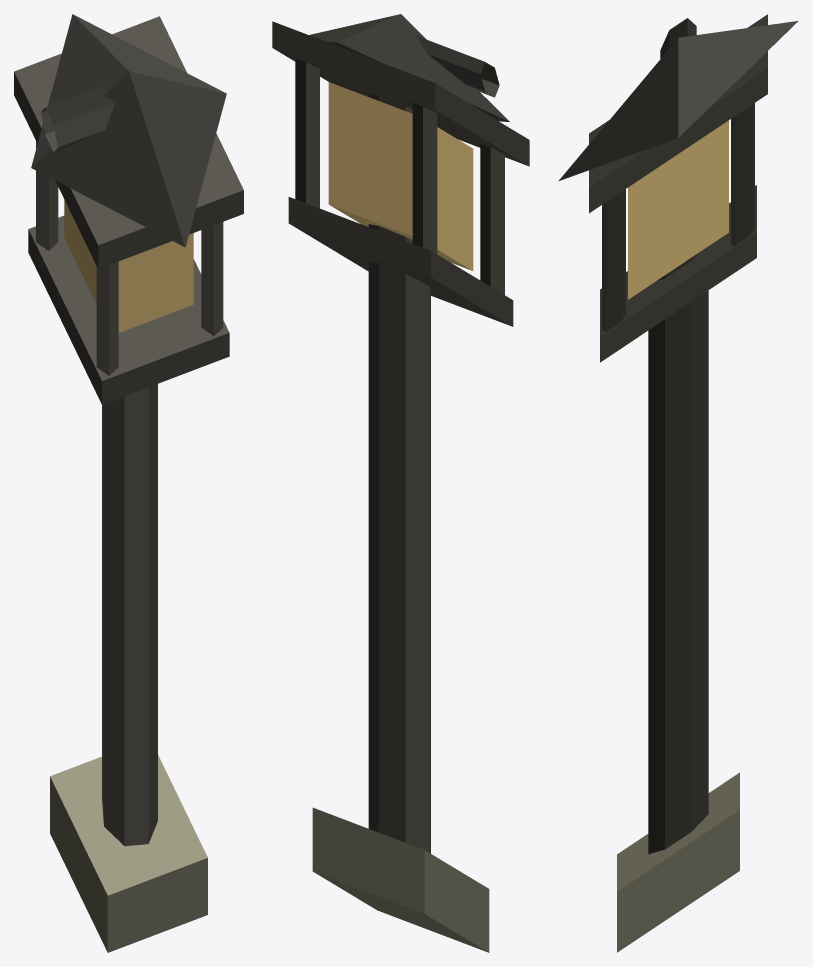
3 views of the same model, side by side, from view 1: azimuth 30°, elevation 25°; view 2: azimuth 150°, elevation 25°; view 3: azimuth 270°, elevation 25° (orthographic). The views are drawn at different scales.
Visible parts, largest first — view 1: ed144e6e295cbd73d4fbed7b846c645fa4b5f42dee375adaddde36915c54; view 2: ed144e6e295cbd73d4fbed7b846c645fa4b5f42dee375adaddde36915c54; view 3: ed144e6e295cbd73d4fbed7b846c645fa4b5f42dee375adaddde36915c54.
Boxes of the visible parts, x1,y1,x2,y2 form: ed144e6e295cbd73d4fbed7b846c645fa4b5f42dee375adaddde36915c54: [14, 14, 243, 952]; ed144e6e295cbd73d4fbed7b846c645fa4b5f42dee375adaddde36915c54: [272, 14, 529, 952]; ed144e6e295cbd73d4fbed7b846c645fa4b5f42dee375adaddde36915c54: [558, 14, 798, 952].
Bounding box in the file's own units: 0.86 × 3.63 × 0.86.
2 materials, 1 textured.
